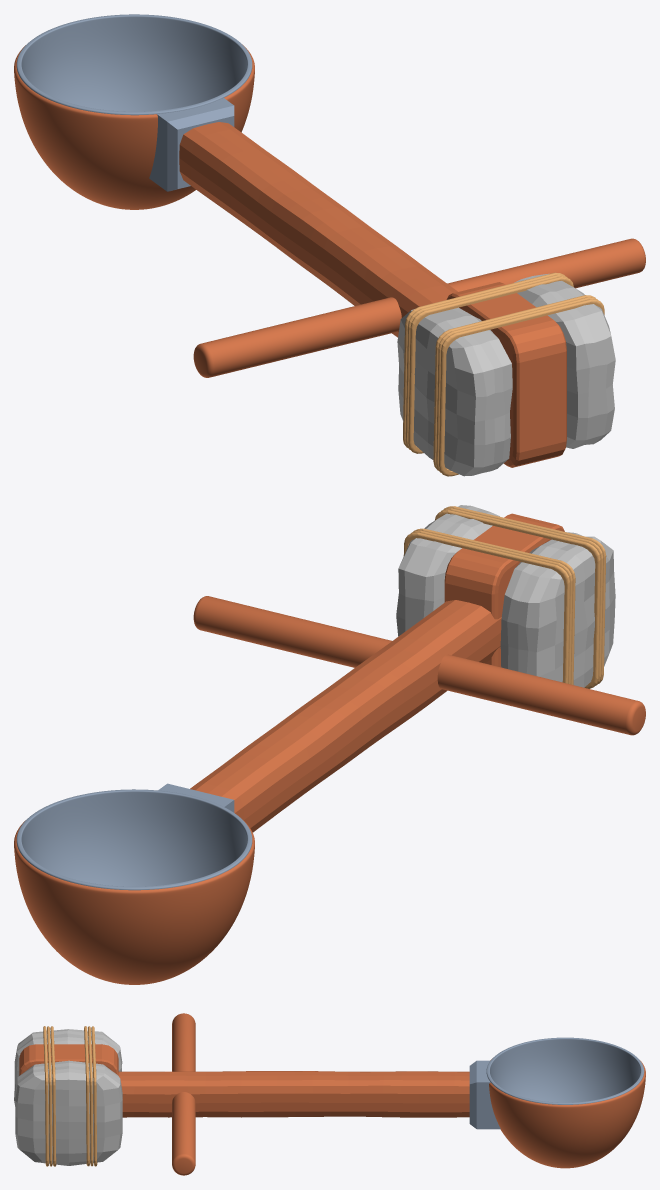
Rendered from Spoon.fbx.
The picture shows the model from 3 angles, top to bottom: view 1: azimuth 30°, elevation 25°; view 2: azimuth 150°, elevation 25°; view 3: azimuth 270°, elevation 25°; orthographic projection. The views are drawn at different scales.
Visible parts, largest first — view 1: Spoon; view 2: Spoon; view 3: Spoon.
Part boxes in pixels (x1,y1,x2,y2): Spoon: (14, 14, 645, 476); Spoon: (14, 505, 645, 984); Spoon: (14, 1013, 645, 1175).
Bounding box in the file's own units: 1105 × 410 × 2061.
